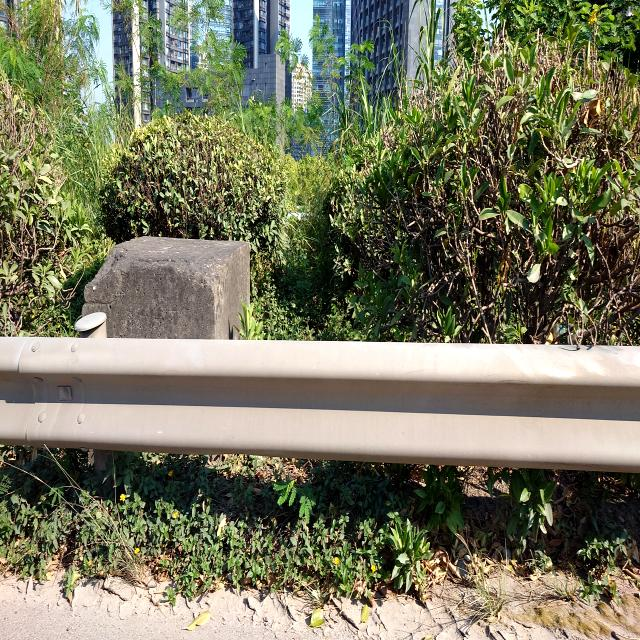Guard rail: (0, 338, 640, 471)
Tree: (0, 0, 640, 344), (111, 0, 192, 124), (232, 0, 290, 69)
